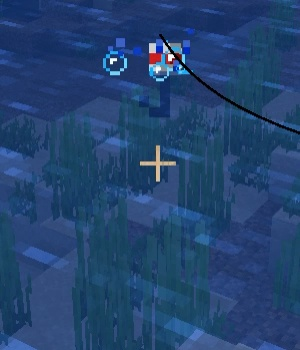up: (141, 35, 185, 123)
